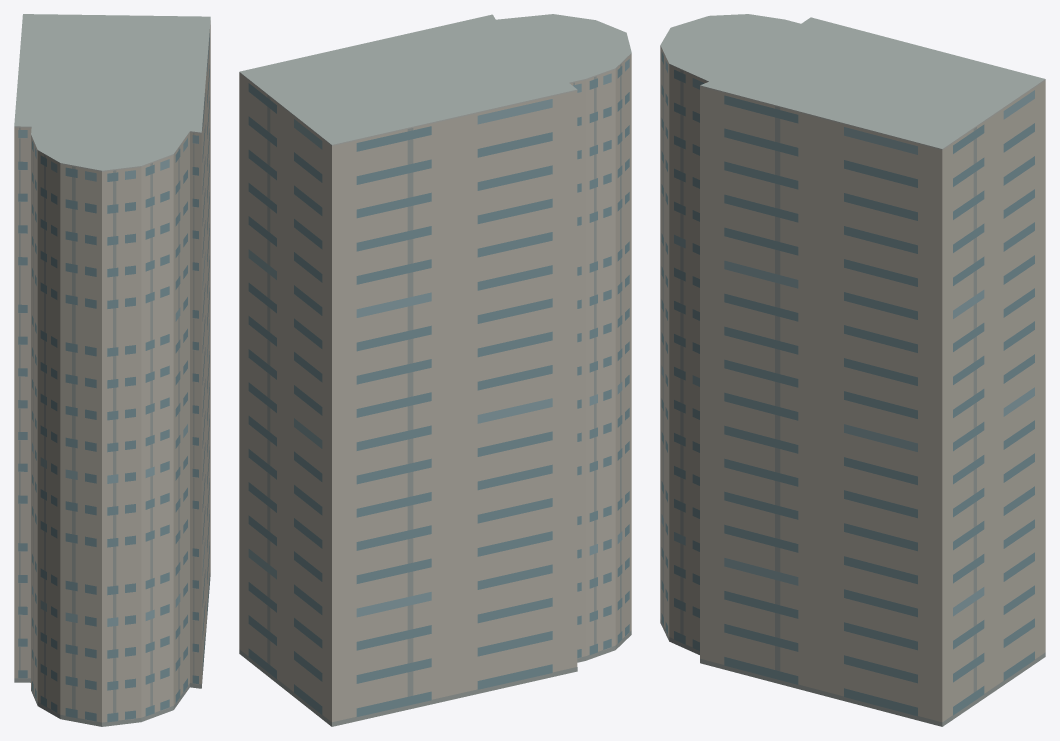
The model's file is residential-41d7c6a2-44e6-449d-9a0c-69050c8fb26e.glb.
The picture shows the model from 3 angles, left to right: view 1: azimuth 30°, elevation 25°; view 2: azimuth 150°, elevation 25°; view 3: azimuth 270°, elevation 25°; orthographic projection. The views are drawn at different scales.
Parts seen in each view (by area): view 1: residential-41d7c6a2-44e6-449d-9a0c-69050c8fb26e.tmp; view 2: residential-41d7c6a2-44e6-449d-9a0c-69050c8fb26e.tmp; view 3: residential-41d7c6a2-44e6-449d-9a0c-69050c8fb26e.tmp.
Part boxes in pixels (x1,y1,x2,y2): residential-41d7c6a2-44e6-449d-9a0c-69050c8fb26e.tmp: [14, 14, 210, 726]; residential-41d7c6a2-44e6-449d-9a0c-69050c8fb26e.tmp: [239, 14, 631, 726]; residential-41d7c6a2-44e6-449d-9a0c-69050c8fb26e.tmp: [660, 14, 1045, 726].
Size of the model in its own units: 59.16 by 118 by 71.29.
